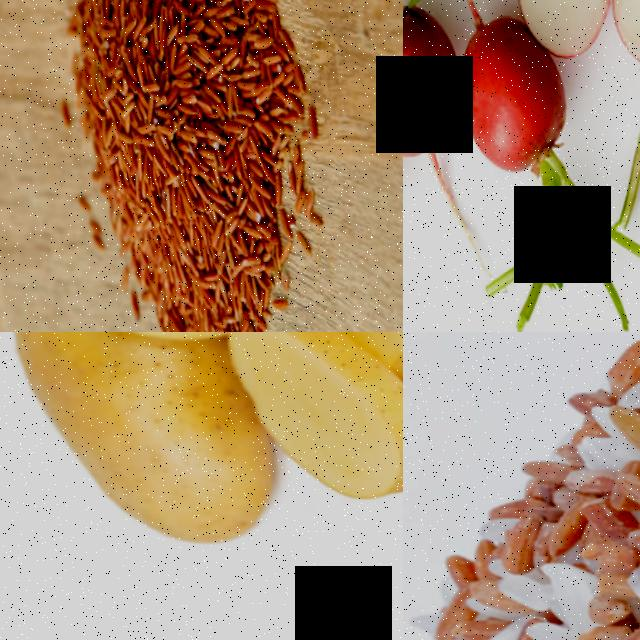potato: (19, 332, 256, 563), (224, 332, 403, 508)
radishes: (452, 5, 573, 280), (403, 0, 467, 160), (467, 0, 620, 66)
red rice: (51, 0, 327, 332), (403, 332, 640, 640)
